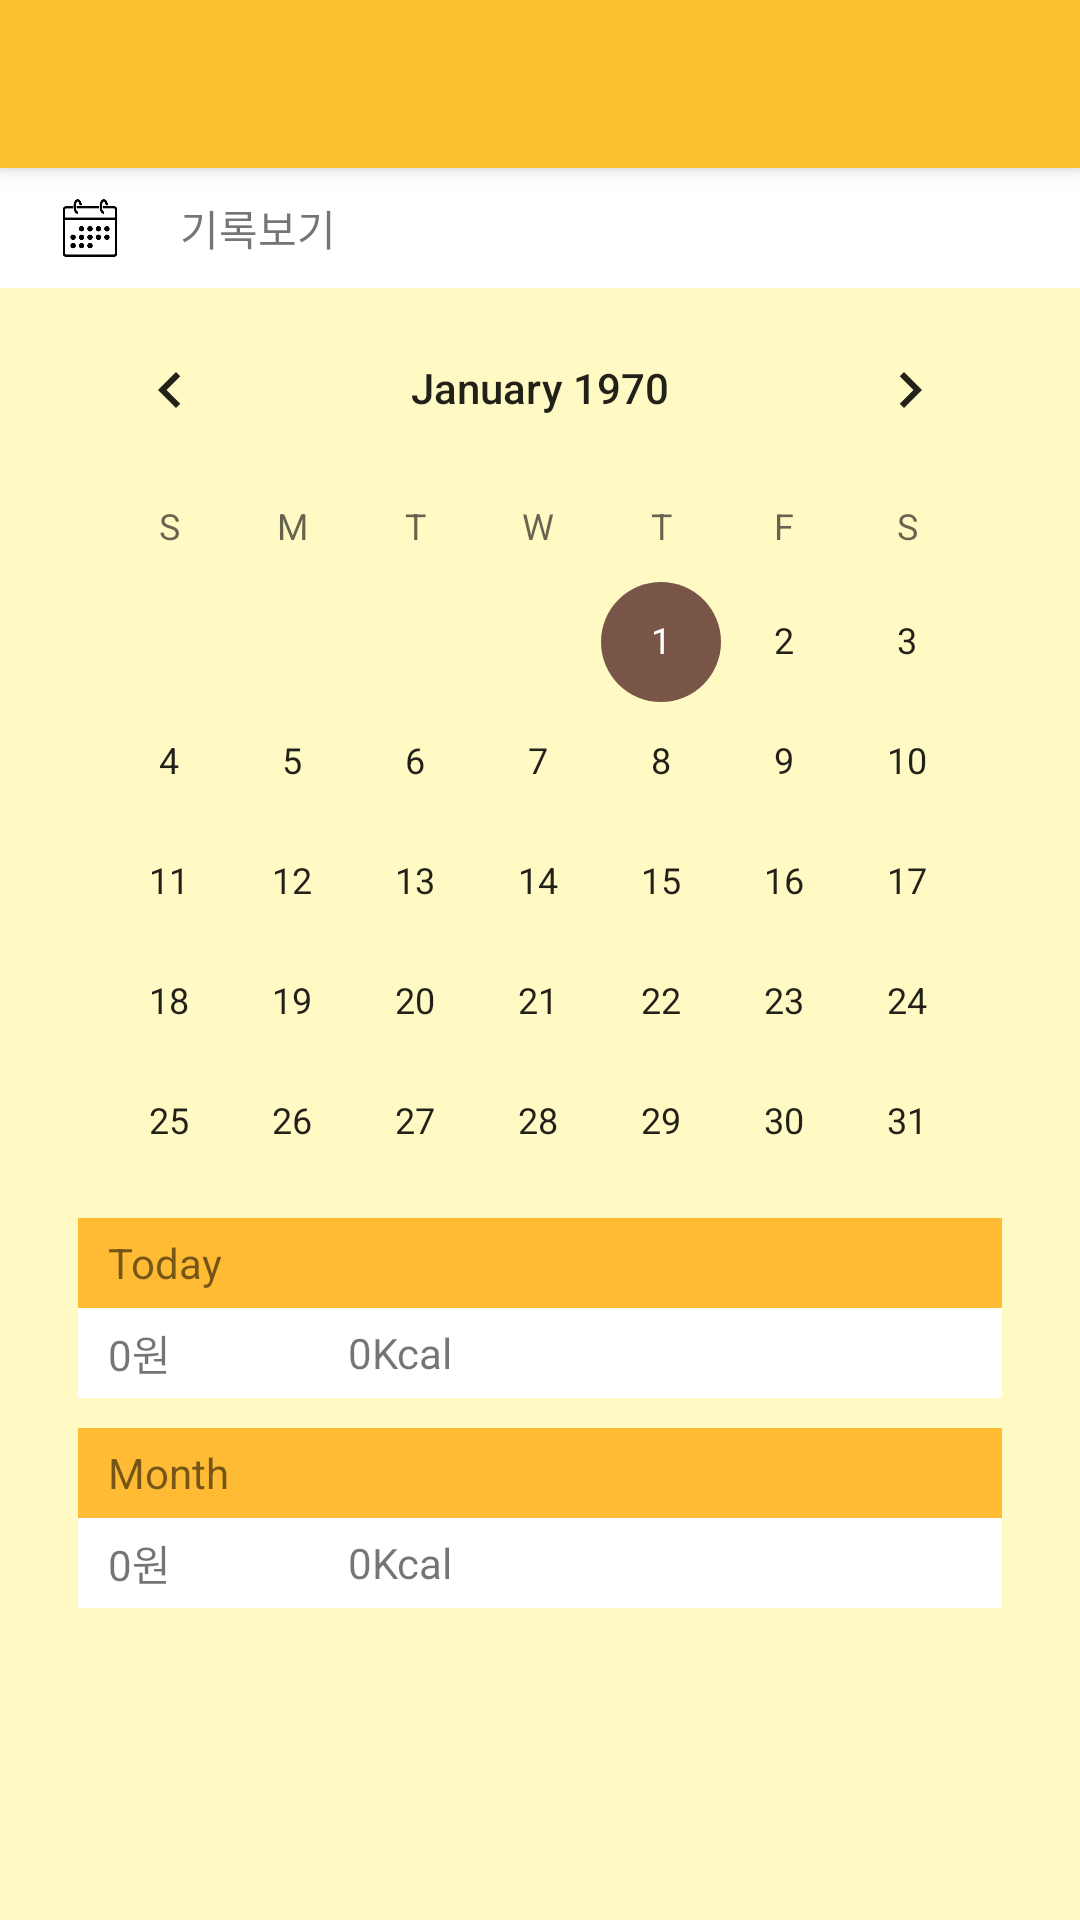

Where icons sit on this 1080 × 1920 app screen, as Rect(x1, y1, x2, y2):
calender record: Rect(63, 199, 117, 257)
